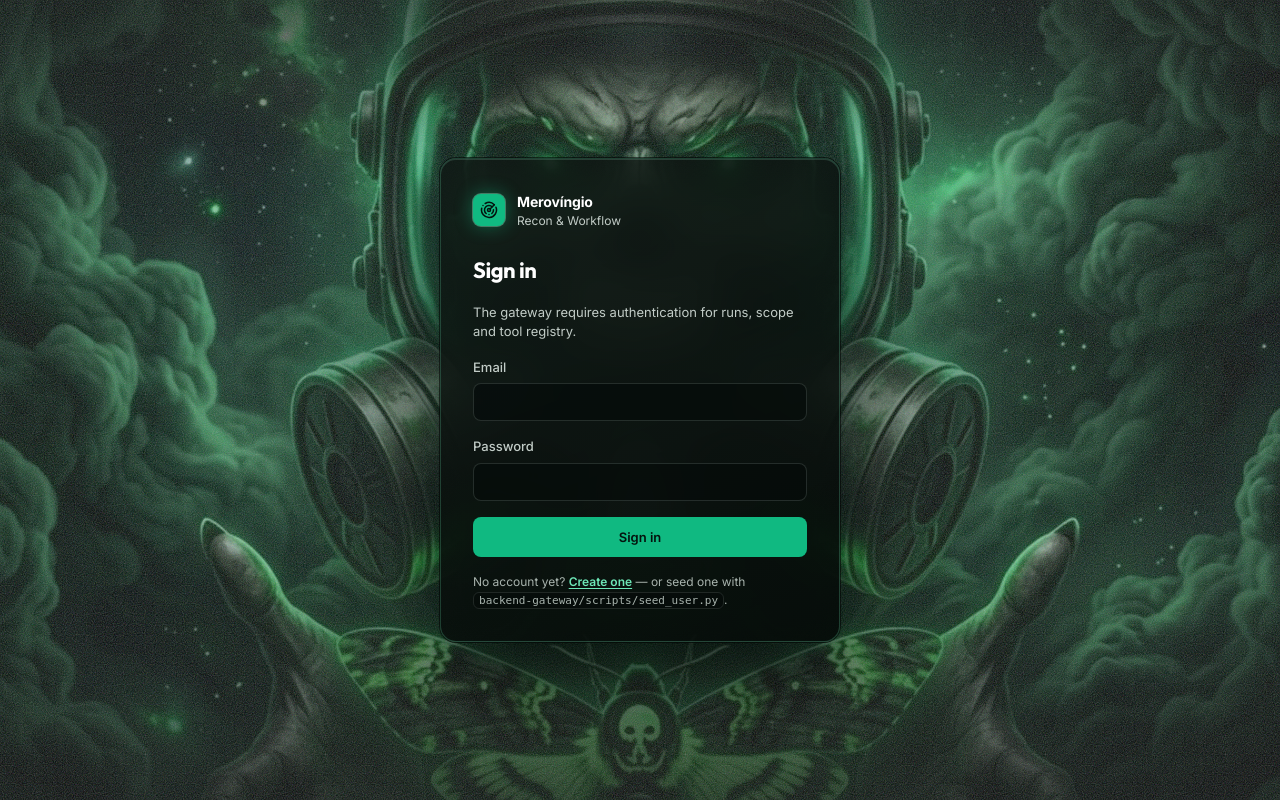
it: authentication gate › registers and lands straight in the dashboard
Expected: the heading "Sign in" is shown, [473,256,536,284]
Step 1. Click the button "Create one" → (600,582), box [569,573,632,591]
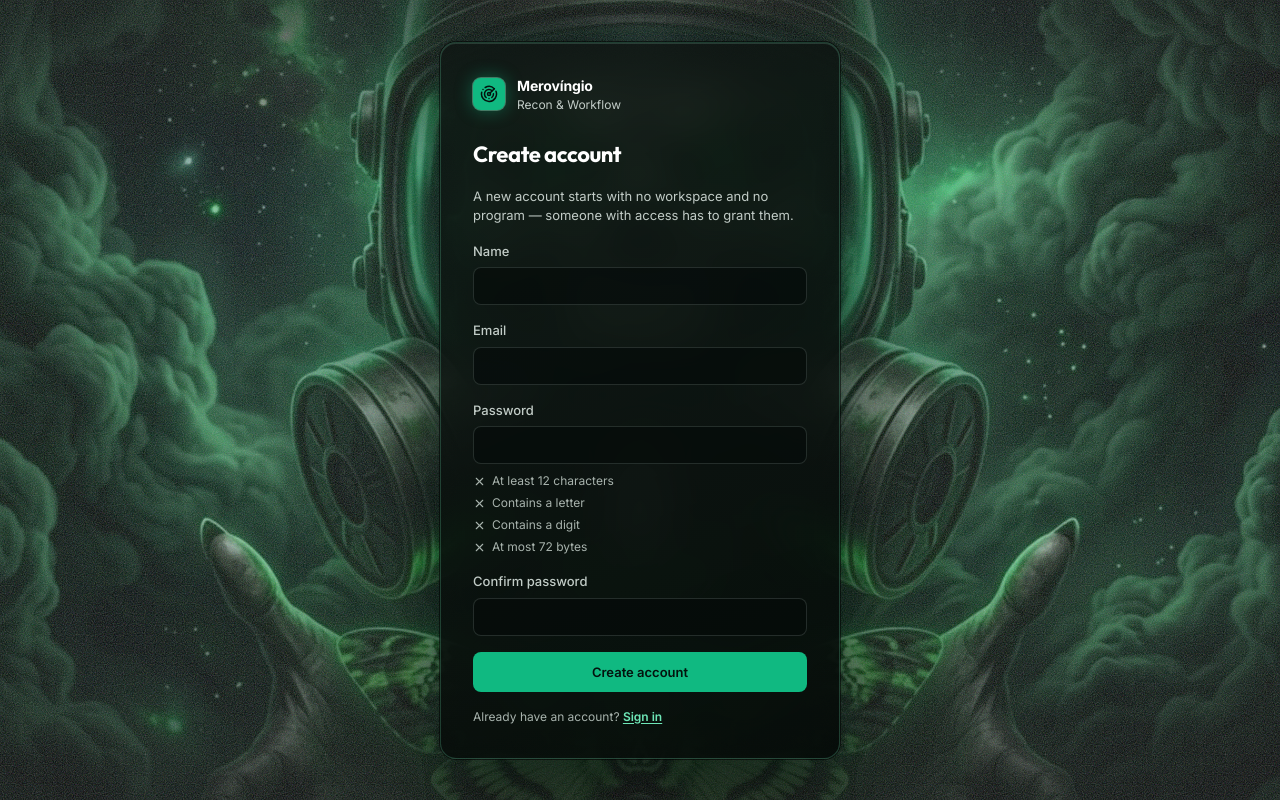
Expected: the heading "Create account" is shown, [473,140,621,168]
Step 2. Type "New Operator" into the field labelled "Name" → (640,286), box [473,267,807,305]
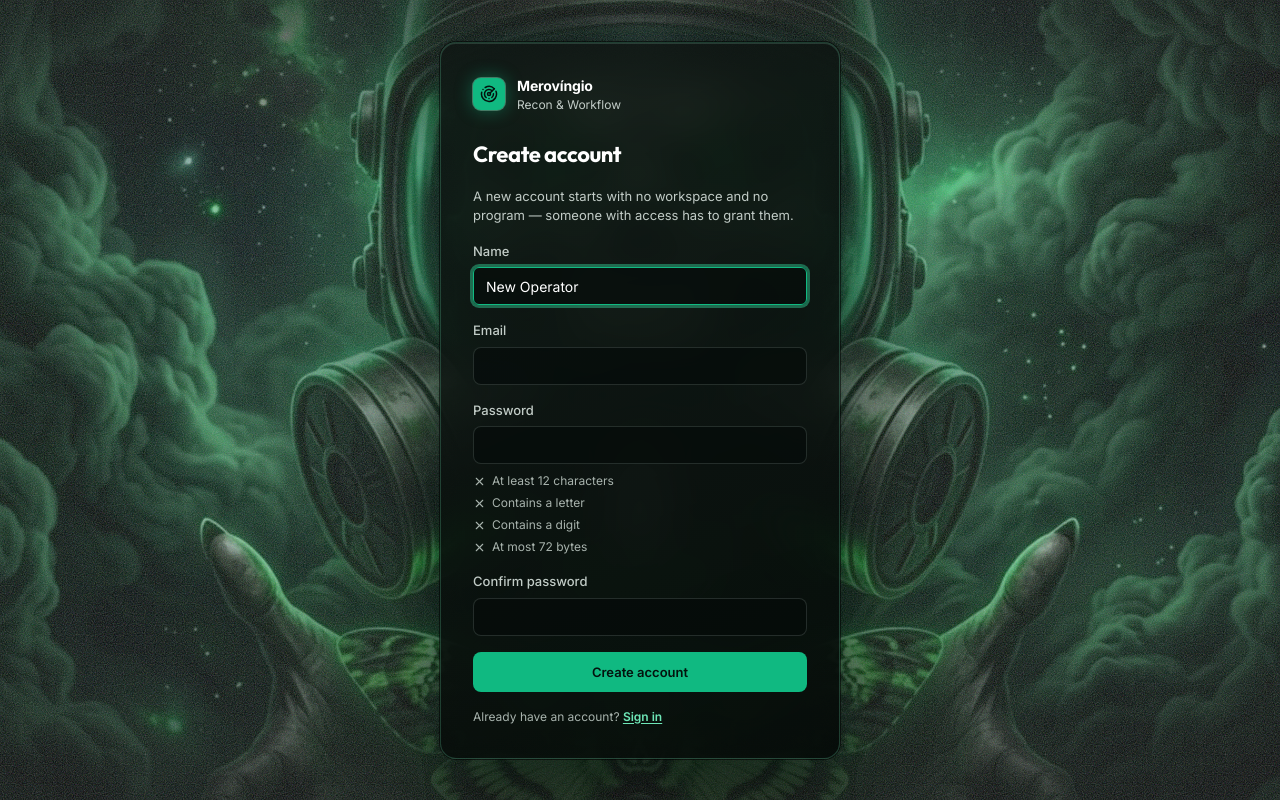
Step 3. Type "new@example.com" into the field labelled "Email" → (640,366), box [473,346,807,384]
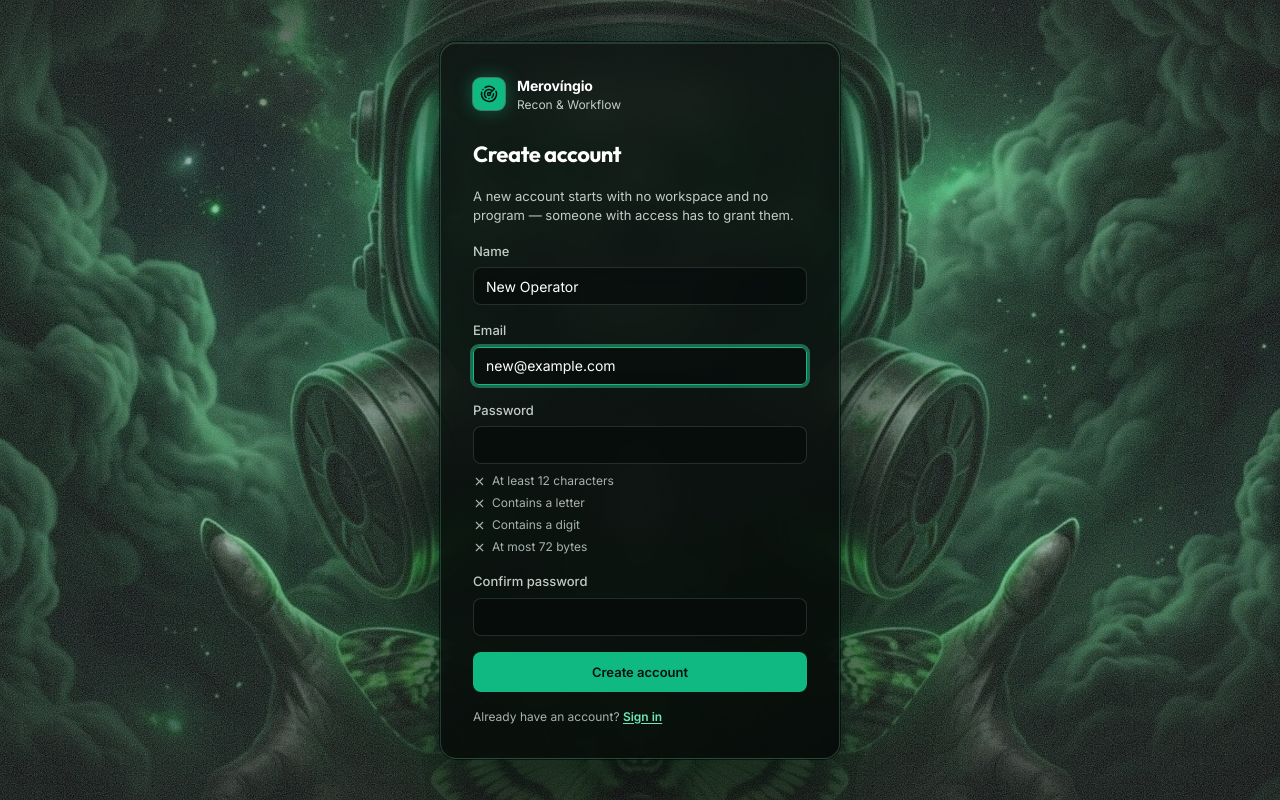
Step 4. Type "CorrectHorse42!" into the password field labelled "Password" → (640,445), box [473,426,807,464]
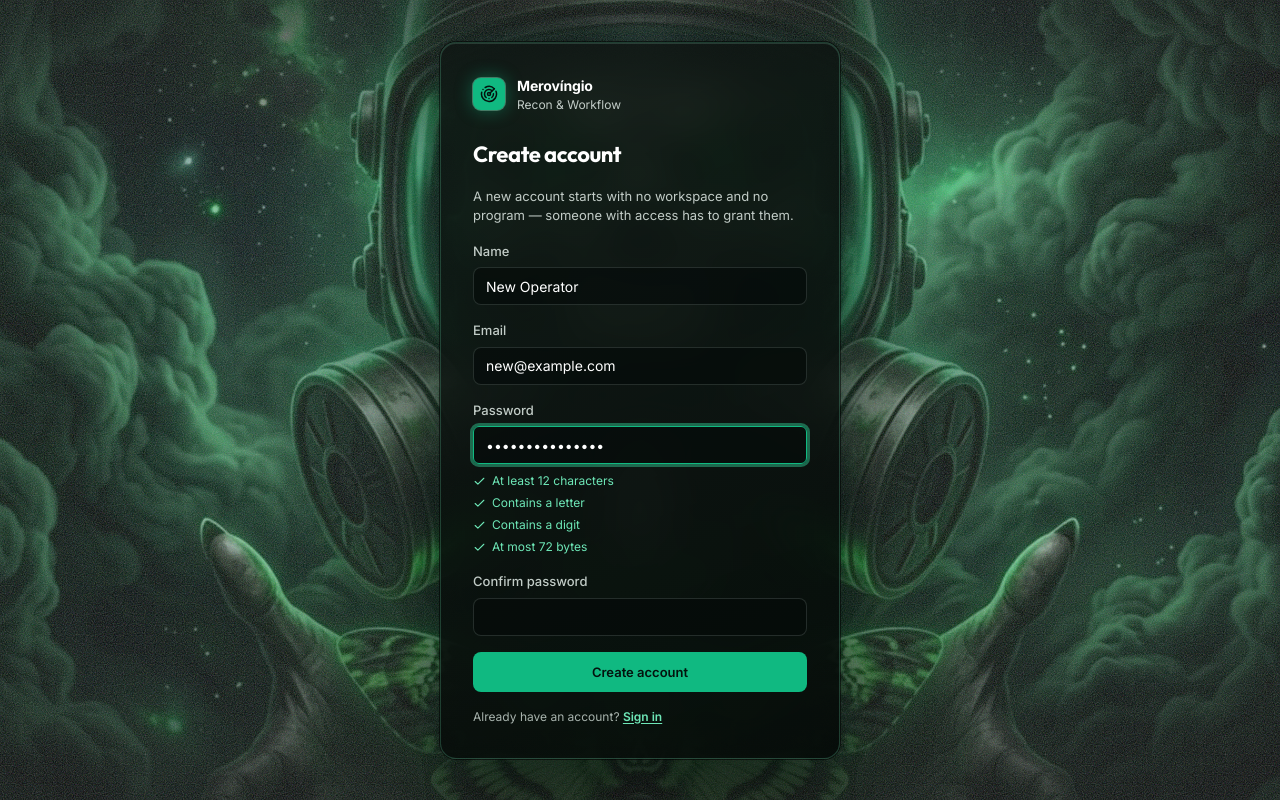
Step 5. Type "CorrectHorse42!" into the password field labelled "Confirm password" → (640,616), box [473,598,807,636]
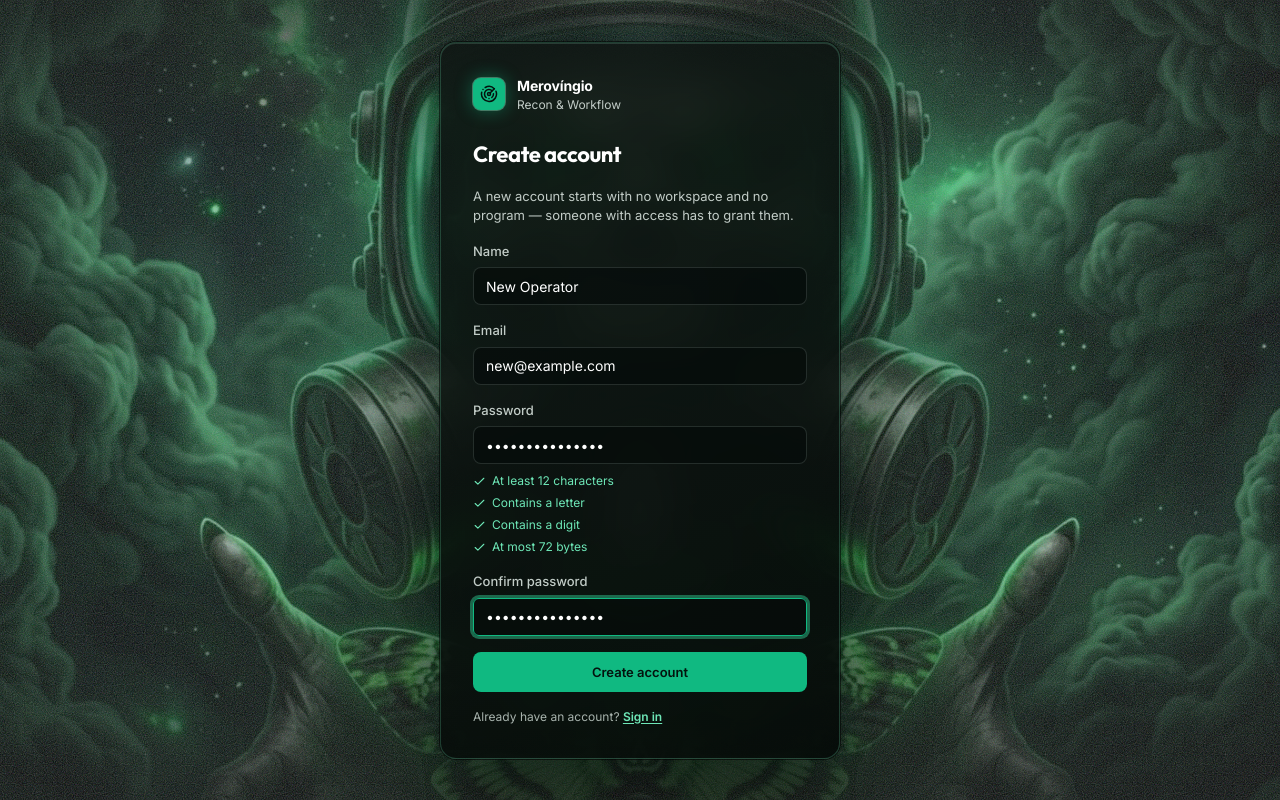
Step 6. Click the button "Create account" → (640,672), box [473,652,807,692]
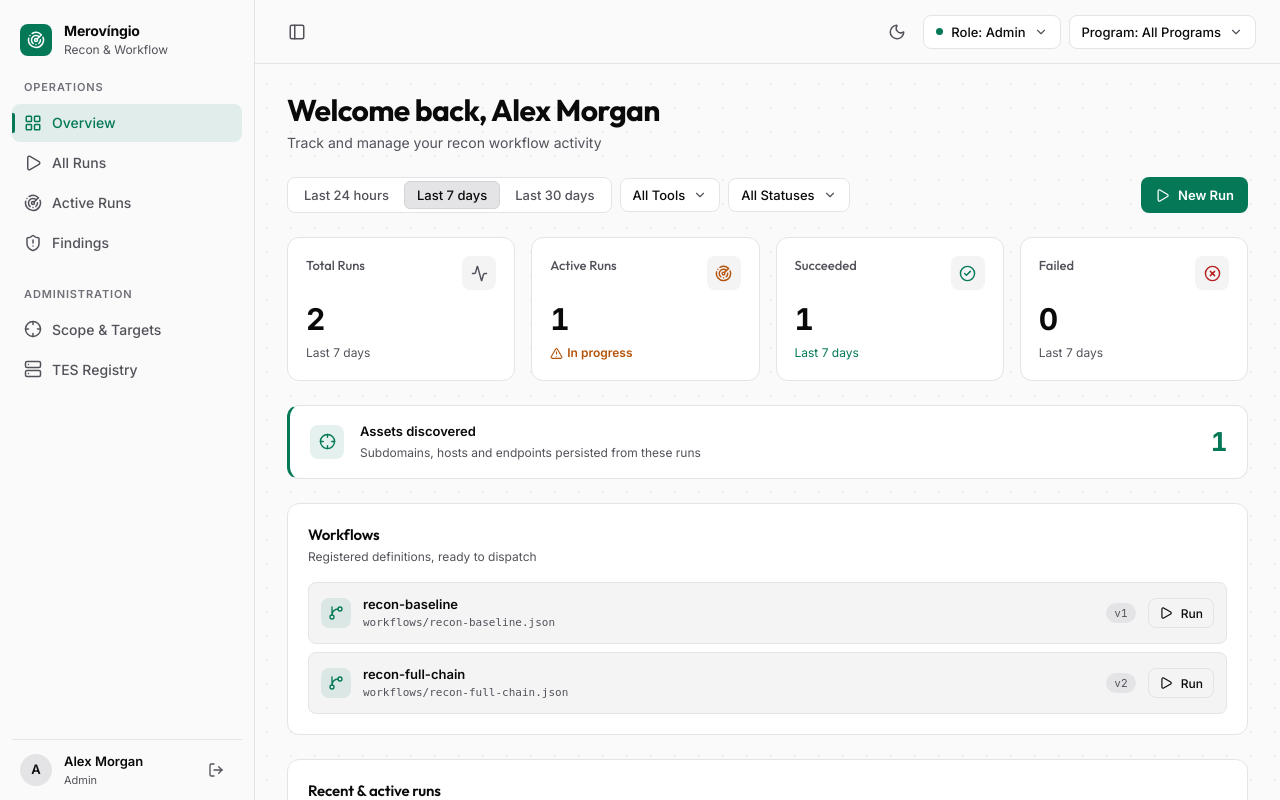
Expected: the navigation bar named "main navigation" is shown, [0,0,255,799]
